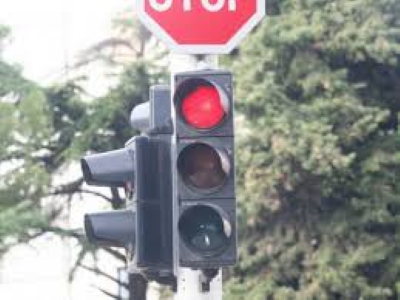stop: (145, 1, 254, 44)
trafficlight_red: (172, 74, 235, 262)
